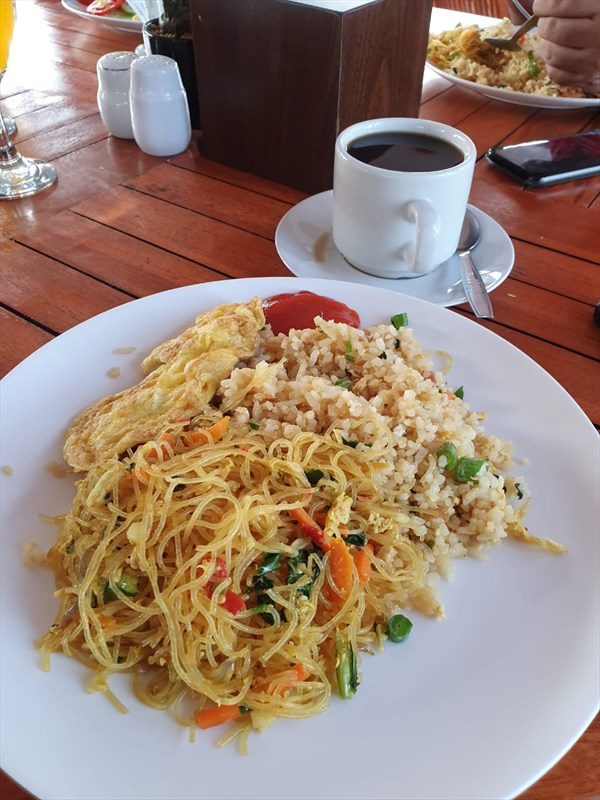Nasi Goreng: (80, 65, 527, 695)
